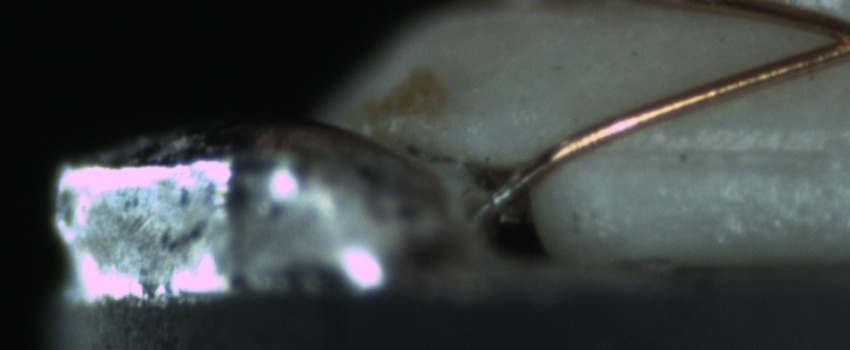CL: (804, 5, 850, 65)
DL: (611, 117, 845, 190)
TS: (482, 174, 526, 210)
